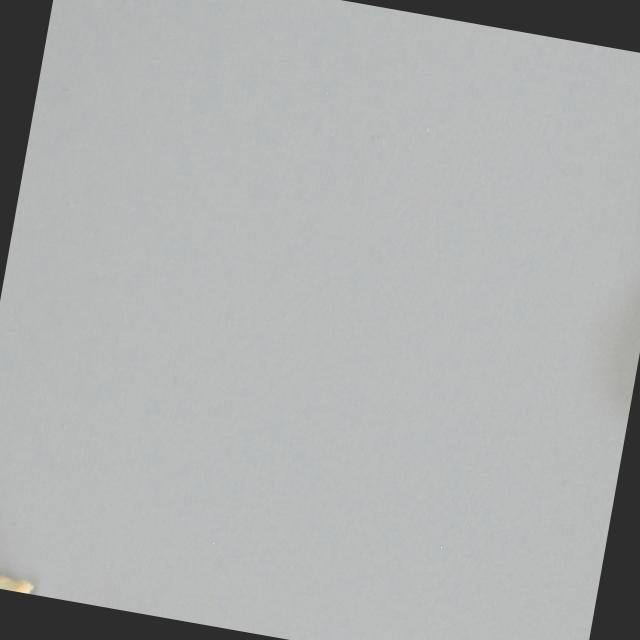entero: (0, 569, 54, 597)
